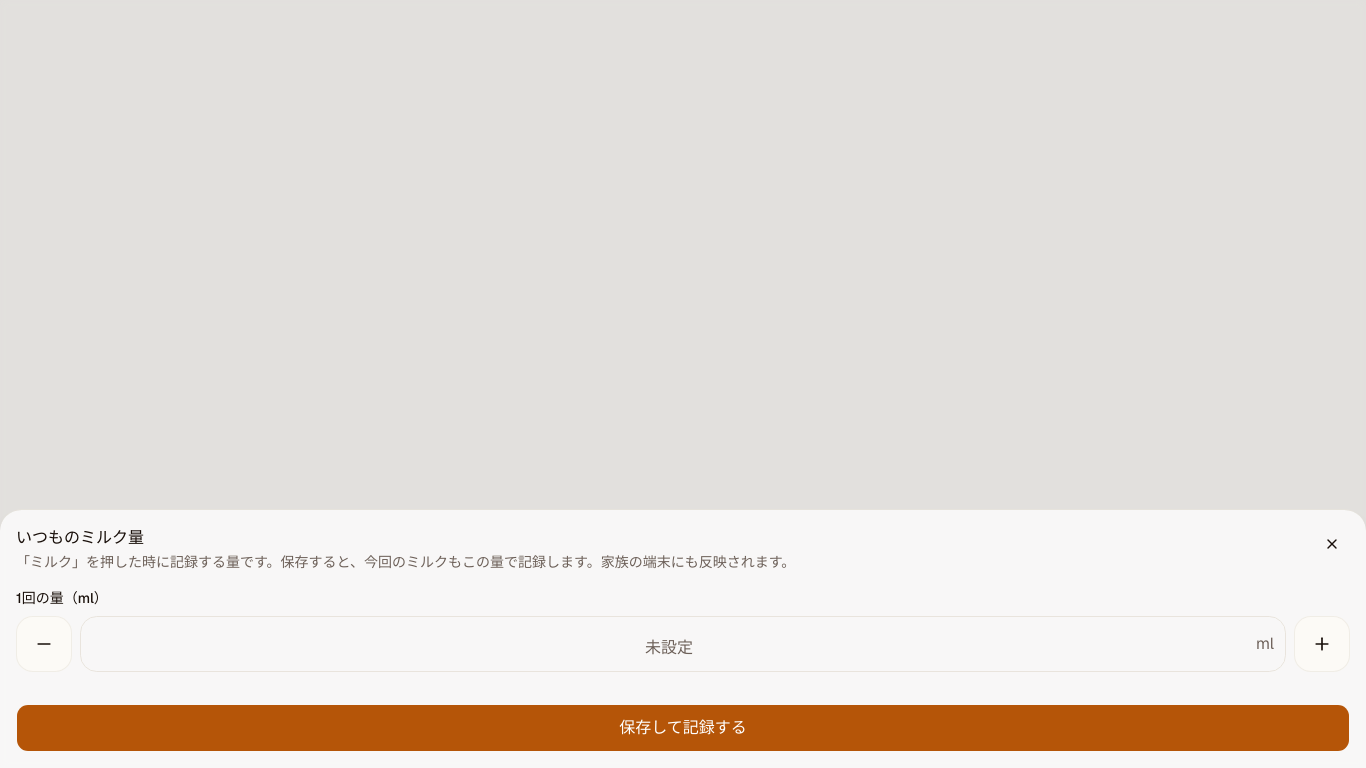
Test: BottleDefaultSheet の入力（Base UI Number Field） › 空欄から「増やす」は 10ml から数える（1, 11, 21… の半端な量にせぬ）
The width and height of the screenshot is (1366, 768).
Click the button named "10ml増やす" at (1322, 644), box [1294,616,1350,672]
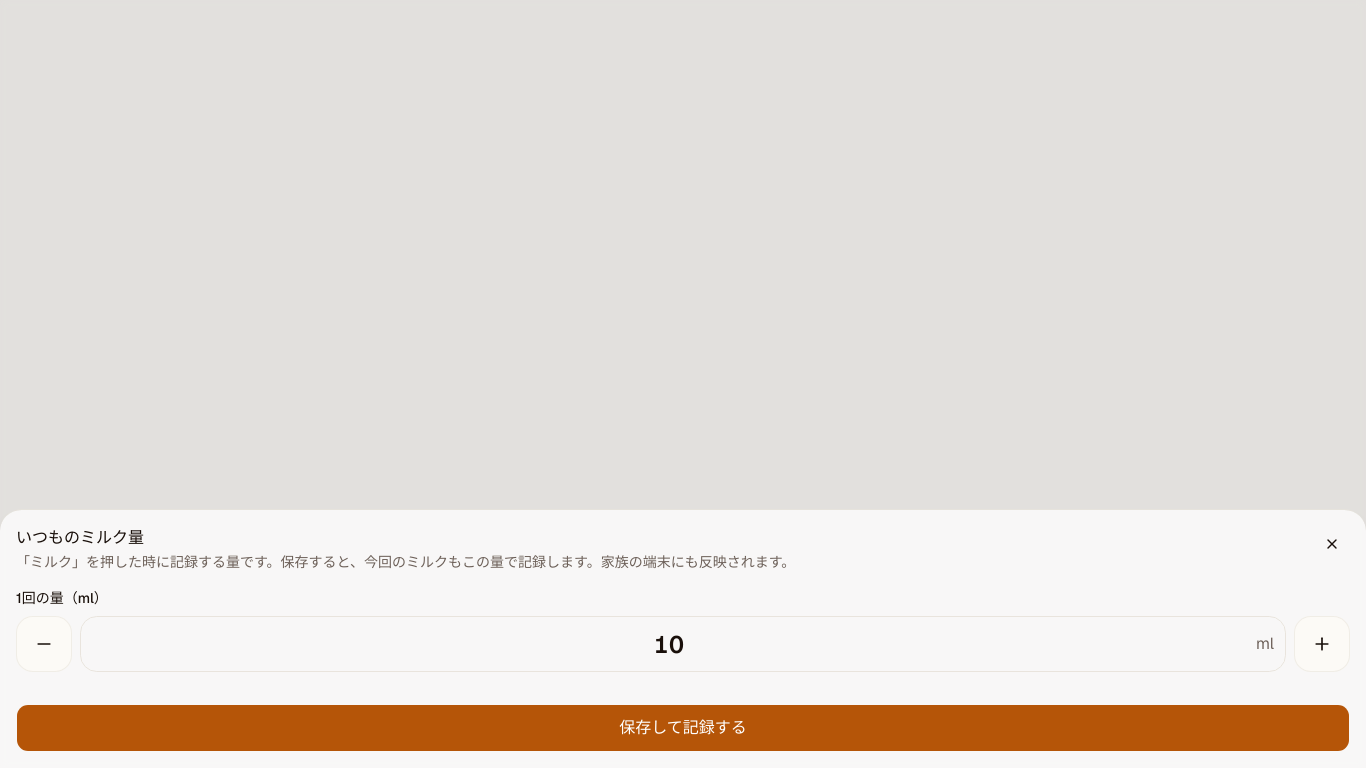
Now the field labelled "1回の量（ml）" holds "10", box [80,616,1286,672]
Click the button named "10ml増やす" at (1322, 644), box [1294,616,1350,672]
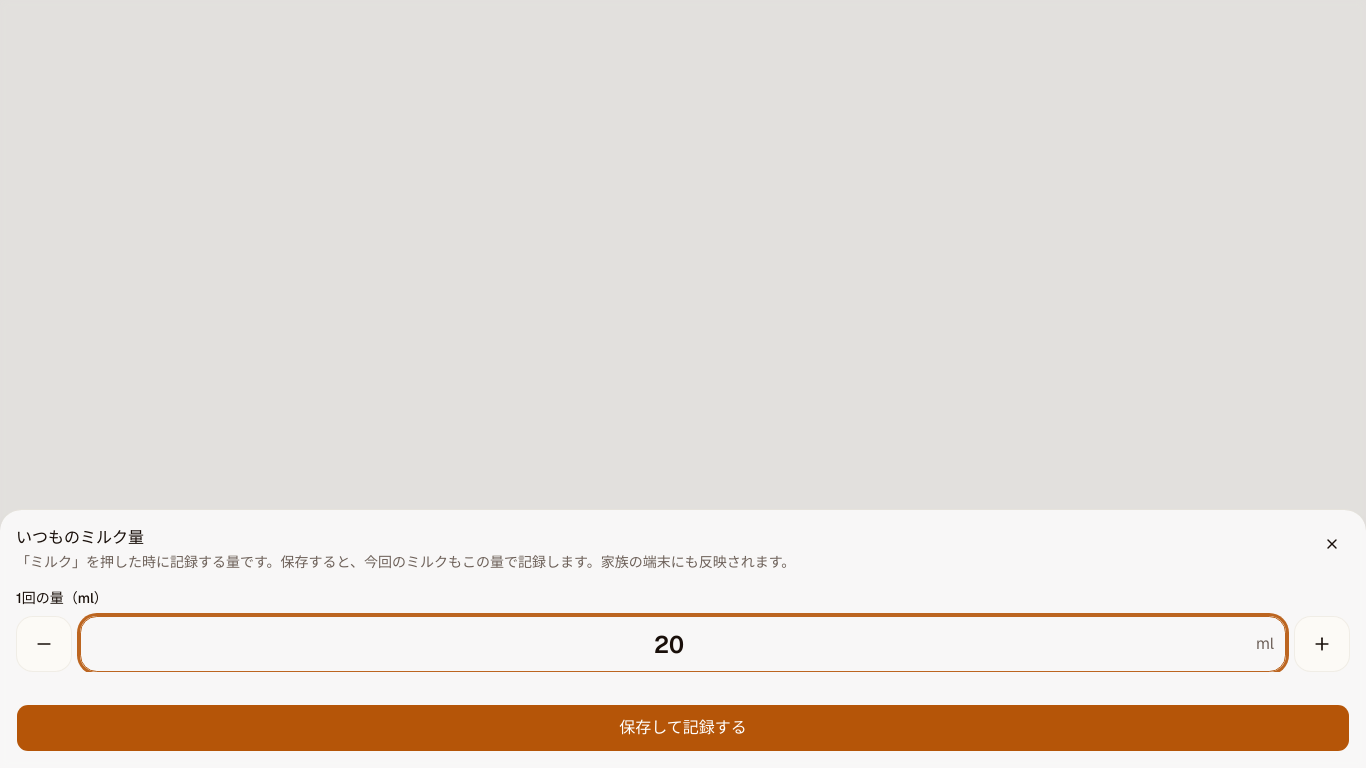
Now the field labelled "1回の量（ml）" holds "20", box [80,616,1286,672]
